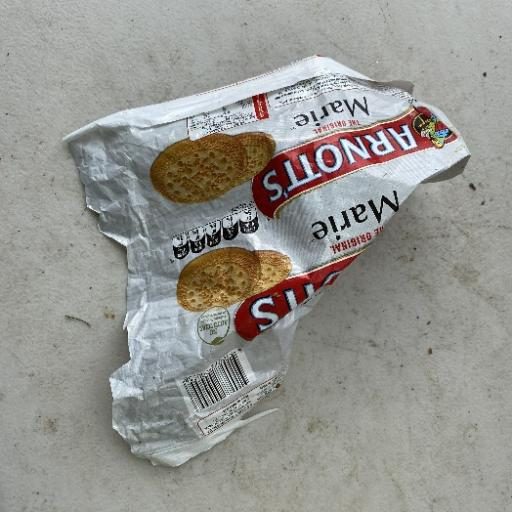Plastic: (61, 53, 471, 467)
